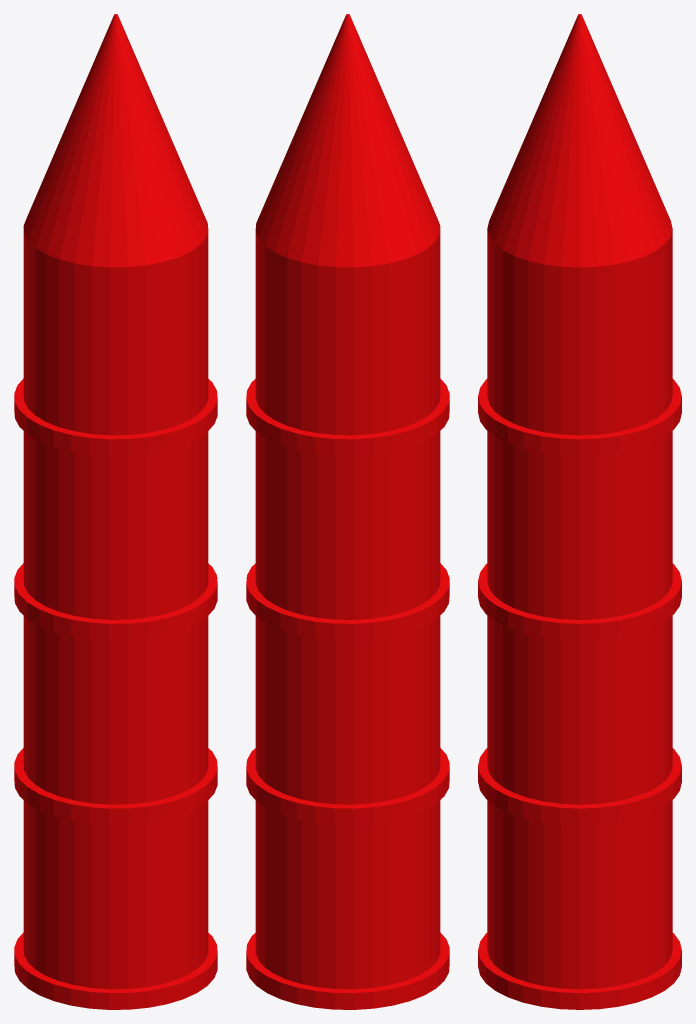
File: Road Spike.fbx
3 views of the same model, side by side, from view 1: azimuth 30°, elevation 25°; view 2: azimuth 150°, elevation 25°; view 3: azimuth 270°, elevation 25° (orthographic).
Visible parts, largest first — view 1: building_001; view 2: building_001; view 3: building_001.
Part boxes in pixels (x1=…): building_001: x1=14, y1=14, x2=217, y2=1009; building_001: x1=246, y1=14, x2=449, y2=1009; building_001: x1=478, y1=14, x2=681, y2=1009.
Size of the model in its own units: 220 by 1135 by 220.
